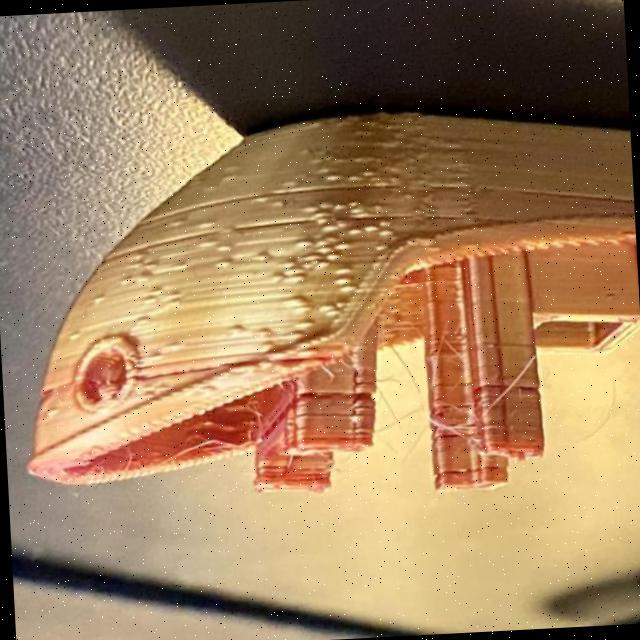blobs: (289, 295, 317, 315), (320, 298, 340, 321), (282, 328, 306, 344), (292, 233, 313, 250), (298, 344, 317, 362), (128, 254, 148, 271), (277, 257, 300, 271), (212, 240, 230, 257), (145, 350, 165, 365), (214, 256, 235, 270), (253, 249, 270, 266), (358, 218, 376, 234), (374, 226, 392, 242), (228, 322, 247, 337), (318, 195, 334, 212), (288, 272, 307, 286), (334, 240, 353, 254), (323, 250, 342, 263), (323, 168, 339, 183), (296, 318, 313, 332), (135, 315, 153, 328), (301, 204, 320, 216), (268, 270, 284, 284), (134, 271, 150, 285), (372, 241, 388, 255), (376, 219, 393, 232), (338, 284, 360, 294), (140, 295, 160, 306), (335, 276, 353, 288), (257, 326, 271, 341), (374, 178, 389, 192), (150, 285, 166, 298), (131, 248, 148, 260), (362, 167, 379, 179), (336, 263, 350, 277), (344, 198, 363, 208), (316, 258, 328, 273), (346, 226, 362, 237), (116, 275, 132, 286), (169, 298, 182, 310), (170, 288, 181, 302), (348, 207, 364, 216), (262, 339, 275, 350), (174, 262, 187, 273), (330, 203, 347, 211), (314, 216, 329, 225), (91, 294, 104, 304), (320, 224, 336, 232), (346, 174, 362, 182)
stringing: (421, 416, 484, 438), (192, 432, 240, 452)
